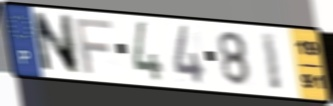4: (131, 19, 167, 83), (172, 24, 207, 86)
8: (217, 29, 254, 88)
F: (73, 17, 114, 76)
I: (259, 30, 284, 93)
N: (30, 10, 81, 76)
